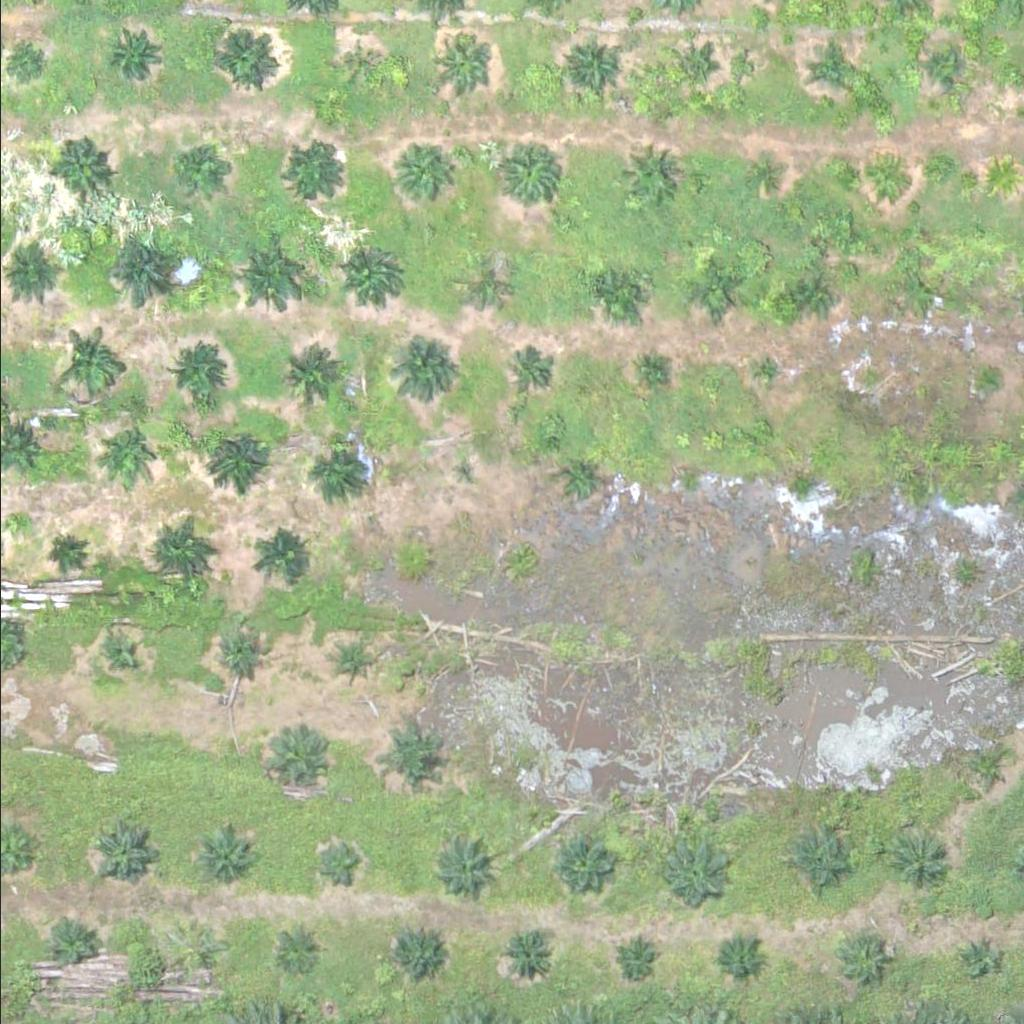Kelapa_Sawit: (148, 334, 224, 409), (229, 237, 305, 312), (376, 330, 452, 405), (274, 338, 350, 413), (46, 326, 122, 401), (98, 235, 173, 310), (660, 837, 735, 912), (268, 735, 331, 798), (384, 724, 447, 787), (312, 439, 375, 502), (210, 24, 273, 87), (103, 29, 166, 92), (44, 135, 107, 198), (545, 833, 608, 896), (196, 822, 259, 885), (91, 822, 154, 885), (495, 923, 558, 986), (150, 525, 213, 587), (560, 32, 623, 94), (250, 524, 313, 586), (280, 142, 343, 204), (205, 428, 267, 491), (338, 245, 401, 307), (616, 142, 679, 204), (583, 262, 646, 324), (496, 140, 559, 202), (385, 144, 448, 206), (431, 34, 494, 96), (885, 833, 948, 895), (788, 832, 851, 894), (434, 834, 497, 896), (383, 920, 446, 982), (682, 261, 745, 323), (806, 37, 857, 87), (840, 935, 891, 985), (278, 926, 329, 976), (181, 925, 232, 975), (52, 915, 103, 965), (316, 841, 367, 891), (716, 931, 767, 981), (502, 343, 553, 393), (108, 424, 158, 474), (175, 143, 225, 193), (219, 627, 269, 677), (458, 258, 508, 308), (609, 935, 659, 985), (555, 457, 605, 507), (664, 38, 714, 88), (913, 42, 963, 92), (333, 644, 371, 682), (95, 634, 133, 672), (967, 754, 1005, 792), (982, 157, 1020, 195), (958, 937, 996, 975), (393, 541, 431, 579), (745, 355, 783, 393), (793, 279, 831, 317), (860, 159, 898, 197), (740, 158, 778, 196), (902, 275, 940, 313), (44, 529, 82, 566), (339, 48, 377, 85), (641, 357, 667, 382), (981, 369, 1006, 394), (452, 461, 477, 486)
